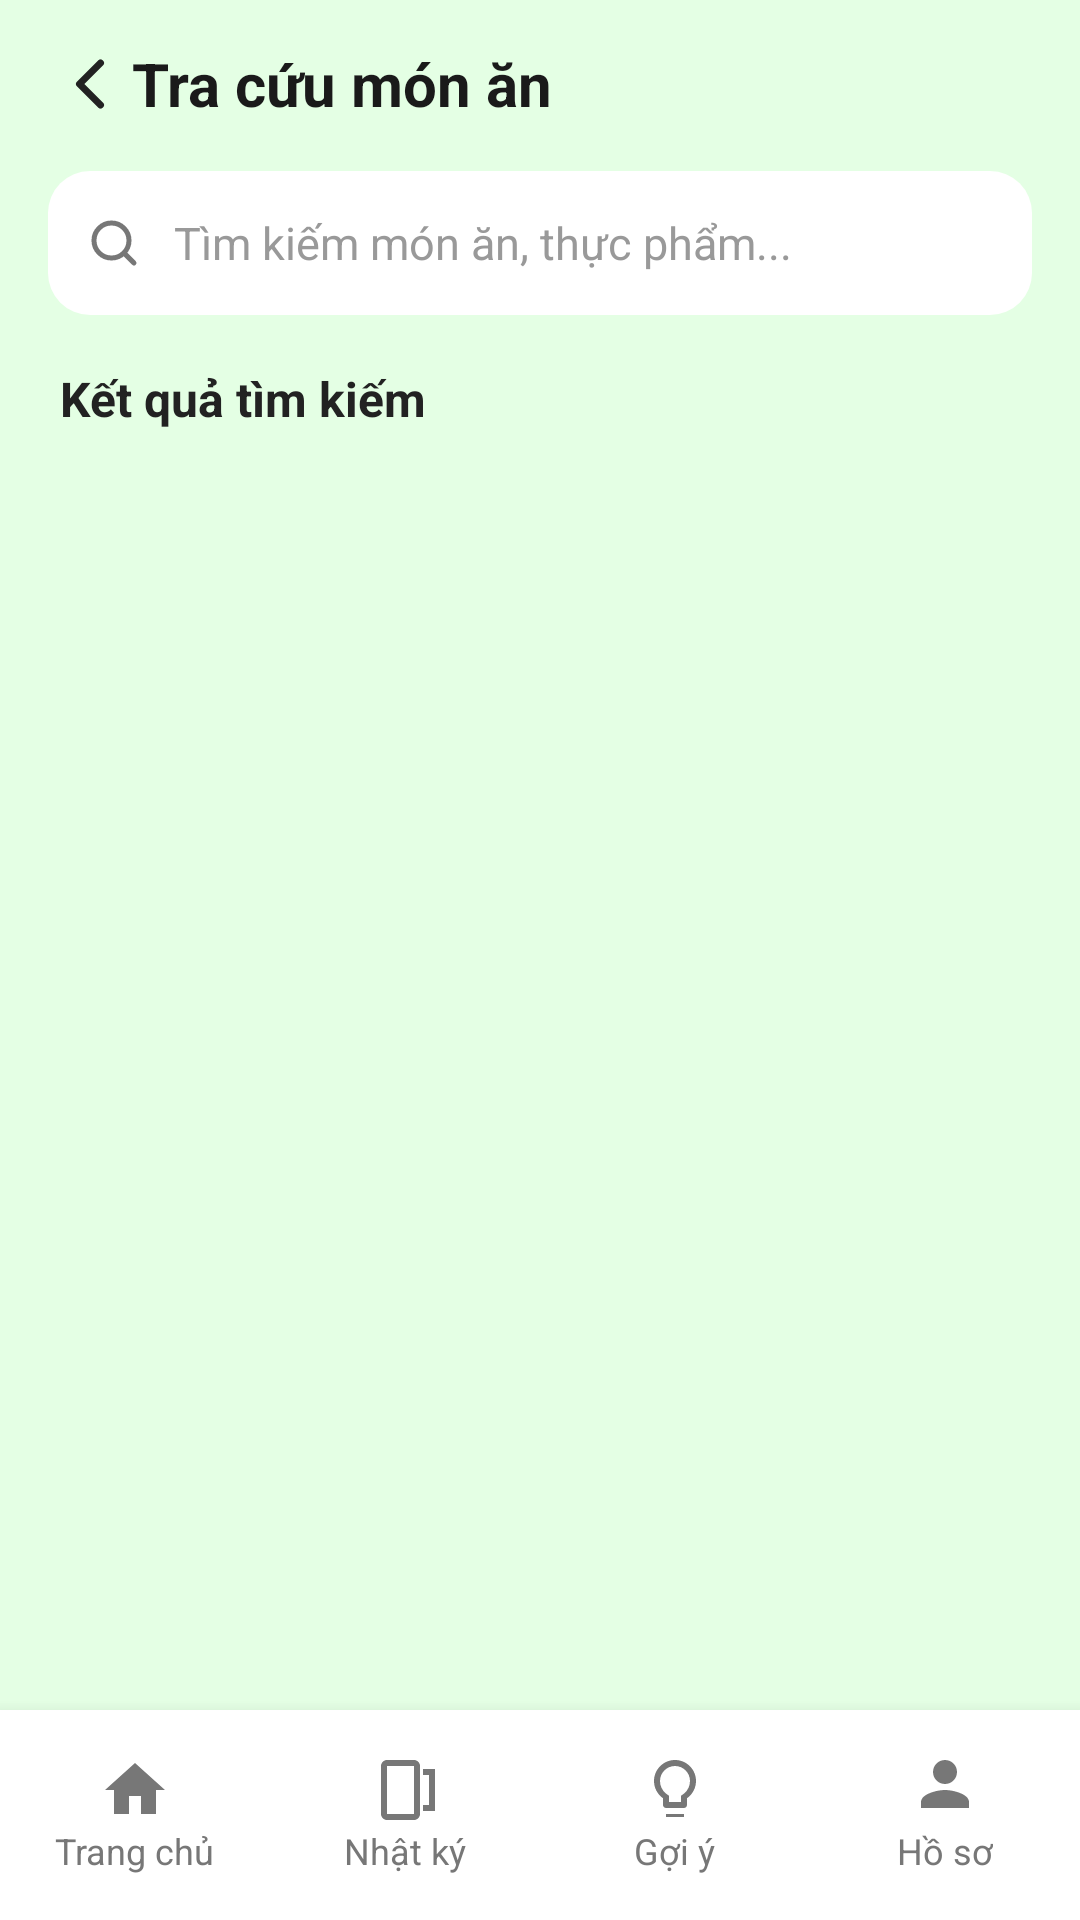

Icons on this 1080 x 1920 Android screen, each with the point to tap as (x,y):
back: (90,84)
user: (945,1784)
